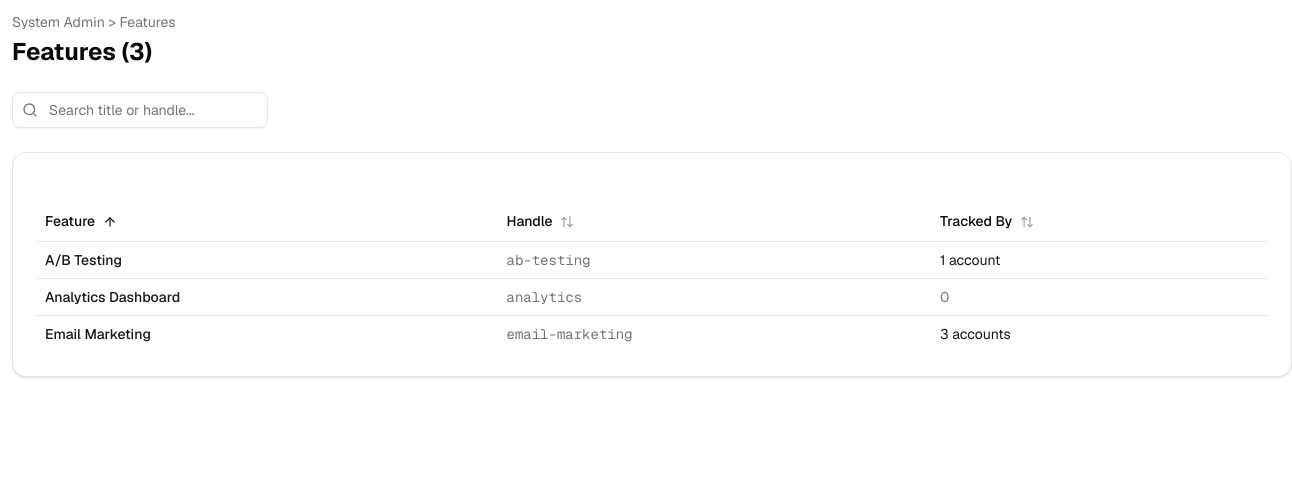
Test case: FeaturesListPage › expands row to show accounts when trackedBy link is clicked
Step 1. Click the button "3 accounts" → (976, 334), box [940, 324, 1011, 344]
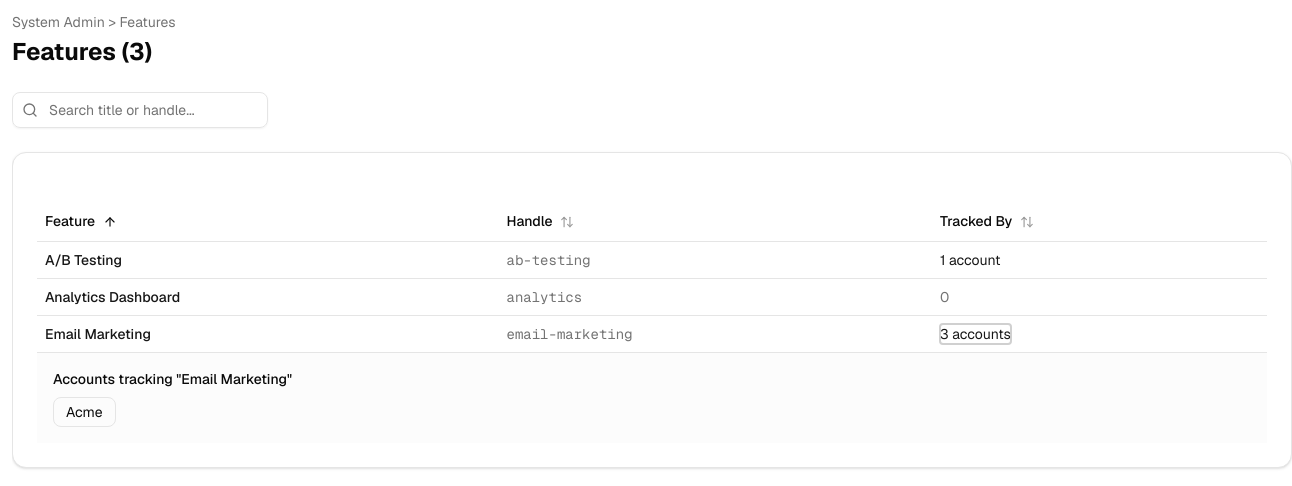
expect the link "Acme" is shown: met, box [53, 396, 116, 426]
